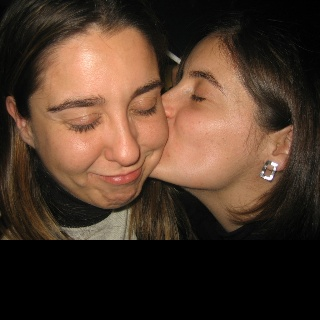without_mask: (35, 24, 169, 209), (150, 29, 272, 193)
